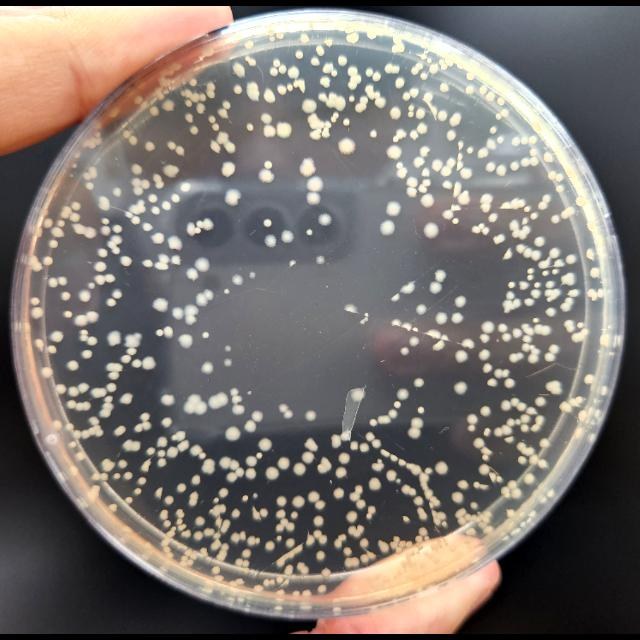colony: (224, 188, 242, 206), (338, 137, 356, 155), (258, 168, 276, 184), (306, 176, 324, 192), (300, 160, 316, 176), (178, 333, 194, 349), (276, 122, 292, 138), (194, 256, 210, 272), (153, 298, 170, 312), (107, 330, 121, 346), (379, 220, 395, 234), (386, 202, 402, 216), (386, 145, 402, 159), (302, 98, 316, 114), (424, 222, 438, 238), (435, 461, 449, 475), (266, 466, 280, 480), (167, 235, 181, 249), (222, 162, 236, 176), (421, 194, 435, 208), (318, 212, 332, 226), (142, 356, 156, 370), (306, 191, 320, 205), (350, 388, 364, 402), (226, 426, 240, 440), (280, 229, 294, 243), (425, 328, 441, 340), (263, 87, 275, 103), (481, 321, 495, 334), (528, 290, 540, 304), (126, 336, 140, 348), (74, 314, 88, 326), (208, 395, 220, 409), (50, 331, 64, 343), (185, 304, 199, 316), (86, 311, 100, 323), (196, 292, 208, 306), (32, 306, 44, 320), (262, 125, 276, 137), (172, 306, 184, 320), (454, 382, 468, 394), (454, 294, 466, 308), (434, 312, 448, 324), (368, 478, 382, 490), (258, 438, 272, 450), (164, 165, 176, 178), (278, 456, 290, 469), (162, 99, 175, 111), (202, 361, 214, 374), (265, 235, 277, 248), (408, 426, 420, 439), (396, 388, 409, 400), (40, 367, 54, 378), (232, 62, 244, 74), (345, 302, 357, 314), (217, 132, 229, 144), (248, 90, 260, 102), (202, 218, 214, 230), (302, 451, 314, 463), (188, 393, 200, 405), (79, 290, 91, 302), (190, 444, 202, 456), (216, 393, 228, 405), (121, 392, 133, 404), (184, 401, 196, 413), (460, 167, 472, 179), (406, 176, 418, 188), (390, 107, 402, 119), (434, 270, 446, 282), (84, 227, 96, 239), (293, 496, 305, 508), (293, 463, 305, 475), (244, 420, 256, 432), (152, 232, 164, 244), (430, 281, 442, 293), (456, 350, 468, 362), (108, 106, 120, 118), (411, 417, 424, 428), (599, 333, 609, 347), (336, 96, 346, 110), (532, 488, 544, 499), (559, 401, 571, 412), (186, 314, 197, 326), (338, 452, 350, 463), (196, 401, 207, 413), (524, 472, 536, 483), (458, 193, 470, 204), (407, 186, 418, 198), (226, 142, 237, 154), (510, 197, 520, 210), (51, 228, 64, 238), (232, 404, 245, 414), (160, 394, 173, 404), (98, 196, 109, 207), (540, 196, 550, 208), (550, 380, 562, 390), (304, 438, 316, 448), (114, 426, 126, 436), (34, 337, 44, 349), (486, 138, 496, 150), (94, 274, 106, 284), (560, 302, 572, 312), (180, 182, 192, 192), (94, 262, 106, 272), (496, 164, 506, 176), (414, 156, 424, 168), (432, 159, 442, 171), (548, 248, 560, 258), (534, 396, 546, 406), (120, 256, 132, 266), (186, 268, 198, 278), (308, 492, 320, 502), (232, 274, 244, 284), (473, 438, 485, 448), (452, 312, 462, 324), (203, 46, 215, 56), (104, 461, 116, 471), (587, 248, 595, 262), (498, 202, 512, 210), (105, 362, 116, 372), (401, 284, 412, 294), (351, 74, 362, 84), (461, 338, 472, 348), (168, 447, 178, 458), (452, 492, 463, 502), (347, 512, 358, 522), (376, 98, 386, 109), (220, 457, 230, 468), (442, 210, 453, 220), (78, 383, 89, 393), (98, 248, 109, 258), (246, 468, 256, 479), (132, 163, 142, 174), (252, 411, 262, 422), (467, 414, 478, 424), (417, 124, 428, 134), (478, 464, 489, 474), (501, 400, 512, 410), (89, 489, 99, 499), (68, 424, 78, 434), (538, 494, 548, 504), (235, 68, 245, 78), (155, 260, 165, 270), (102, 458, 112, 468), (564, 274, 574, 284), (323, 63, 333, 73), (405, 282, 415, 292), (310, 130, 320, 140), (28, 255, 38, 265), (100, 201, 110, 211), (308, 442, 318, 452), (320, 77, 330, 87), (502, 300, 512, 310), (434, 340, 444, 350), (535, 415, 545, 425), (91, 388, 101, 398), (179, 440, 189, 450), (76, 451, 86, 461), (210, 141, 220, 151), (570, 332, 580, 342), (100, 408, 110, 418), (503, 250, 513, 260), (204, 458, 214, 468), (230, 532, 240, 542), (419, 146, 429, 156), (109, 370, 119, 380), (418, 526, 428, 536), (130, 204, 140, 214), (419, 472, 429, 482), (396, 128, 406, 138), (123, 440, 133, 450), (372, 72, 382, 82), (265, 541, 275, 551), (33, 262, 43, 272), (52, 419, 62, 429), (576, 197, 586, 207), (458, 479, 468, 489), (194, 530, 204, 540), (392, 318, 402, 328), (347, 66, 357, 76), (502, 425, 512, 435), (512, 488, 522, 498), (89, 416, 99, 426), (411, 465, 421, 475), (176, 430, 186, 440), (58, 276, 68, 286), (195, 516, 205, 526), (338, 56, 348, 66), (318, 534, 328, 544), (140, 412, 150, 422), (315, 500, 325, 510), (397, 168, 407, 178), (132, 358, 142, 368), (112, 290, 122, 300), (531, 250, 541, 260), (106, 382, 116, 392), (478, 148, 488, 158), (481, 203, 491, 213), (87, 336, 97, 346), (142, 421, 152, 431), (529, 455, 539, 465), (528, 354, 538, 364), (286, 522, 296, 532), (543, 152, 553, 162), (121, 354, 131, 364), (522, 248, 532, 258), (423, 92, 433, 102), (372, 438, 382, 448), (261, 113, 271, 123), (350, 492, 360, 502), (171, 255, 181, 265), (69, 386, 79, 396), (584, 374, 594, 384), (386, 470, 396, 480), (482, 363, 492, 373), (508, 353, 518, 363), (530, 288, 540, 298), (204, 290, 214, 300), (219, 487, 229, 497), (315, 255, 325, 265), (285, 538, 295, 548), (278, 403, 288, 413), (134, 95, 144, 105), (101, 226, 111, 236), (590, 268, 600, 278), (446, 130, 456, 140), (175, 146, 185, 156), (510, 161, 520, 171), (545, 352, 555, 362), (288, 68, 298, 78), (49, 278, 59, 288), (230, 460, 240, 470), (441, 166, 451, 176), (539, 438, 549, 448), (437, 111, 447, 121), (56, 384, 66, 394), (246, 456, 256, 466), (336, 467, 346, 477), (276, 496, 286, 506), (482, 193, 492, 203), (541, 325, 551, 335), (546, 307, 556, 317), (365, 431, 375, 441), (313, 516, 323, 526), (162, 417, 172, 427), (480, 333, 490, 343), (501, 332, 511, 342), (512, 328, 522, 338), (486, 162, 496, 172), (400, 346, 410, 356), (68, 360, 78, 370), (157, 436, 167, 446), (360, 442, 370, 452), (566, 254, 576, 264), (227, 472, 237, 482), (505, 378, 515, 388), (480, 350, 490, 360), (306, 411, 316, 421), (549, 344, 559, 354), (334, 488, 344, 498), (145, 141, 155, 151), (480, 406, 490, 416), (409, 336, 419, 346), (534, 237, 544, 247), (414, 378, 424, 388), (416, 304, 426, 314), (511, 526, 521, 536), (396, 43, 406, 53), (280, 578, 290, 588), (478, 70, 488, 80), (187, 226, 196, 237), (588, 433, 596, 445), (351, 32, 359, 44), (550, 386, 562, 394), (504, 435, 516, 443), (74, 226, 86, 234), (534, 121, 542, 133), (201, 463, 211, 472), (92, 120, 101, 130), (22, 322, 31, 332), (379, 542, 388, 552), (322, 462, 332, 471), (332, 439, 342, 448), (89, 166, 98, 176), (331, 433, 341, 442), (452, 112, 462, 121), (423, 488, 432, 498), (307, 115, 317, 124), (112, 363, 122, 372), (158, 77, 168, 86), (318, 584, 327, 594), (449, 117, 458, 127), (244, 40, 253, 50), (413, 496, 422, 506), (164, 326, 173, 336), (318, 463, 328, 472), (276, 509, 286, 518), (218, 109, 228, 118), (409, 87, 418, 97), (429, 64, 438, 74), (509, 220, 518, 230), (356, 499, 366, 508), (348, 80, 357, 90), (164, 495, 173, 505), (342, 431, 351, 441), (520, 413, 530, 422), (318, 92, 328, 101), (82, 349, 92, 358), (134, 187, 144, 196), (359, 538, 368, 548), (418, 184, 428, 193), (538, 459, 548, 468), (516, 402, 526, 411), (402, 485, 411, 495), (112, 187, 121, 197), (510, 398, 520, 407), (388, 409, 398, 418), (498, 323, 508, 332), (575, 427, 583, 438), (308, 530, 314, 544), (82, 402, 91, 411), (119, 459, 128, 468), (439, 82, 448, 91), (472, 224, 481, 233), (493, 428, 502, 437), (178, 442, 186, 452), (213, 144, 221, 154), (587, 406, 595, 416), (35, 228, 43, 238), (92, 484, 100, 494), (297, 78, 305, 88), (488, 473, 496, 483), (484, 526, 494, 534), (456, 162, 464, 172), (213, 505, 221, 515), (40, 208, 48, 218), (364, 84, 374, 92), (446, 58, 454, 68), (210, 542, 220, 550), (310, 121, 320, 129), (600, 386, 608, 396), (593, 409, 601, 419), (300, 34, 310, 42), (546, 382, 554, 392), (231, 395, 241, 403), (70, 465, 78, 475), (563, 320, 573, 328), (538, 260, 548, 268), (568, 398, 578, 406), (62, 206, 72, 214), (383, 414, 391, 424), (519, 230, 527, 240), (247, 536, 255, 546), (530, 424, 540, 432), (310, 58, 320, 66), (103, 402, 113, 410), (354, 104, 364, 112), (355, 484, 363, 494), (112, 236, 122, 244), (578, 410, 586, 420), (334, 538, 342, 548), (518, 198, 526, 208), (30, 297, 40, 305), (586, 289, 596, 297), (512, 136, 520, 146), (300, 566, 310, 574), (248, 82, 258, 90), (105, 274, 115, 282), (242, 549, 252, 557), (496, 234, 506, 242), (516, 244, 524, 254), (524, 298, 534, 306), (526, 407, 536, 415), (143, 259, 153, 267), (316, 552, 326, 560), (396, 78, 404, 88), (131, 216, 141, 224), (535, 324, 543, 334), (416, 108, 424, 118), (350, 440, 358, 450), (520, 280, 528, 290), (502, 368, 510, 378), (466, 72, 476, 80), (44, 218, 52, 228), (278, 85, 286, 95), (68, 400, 76, 410), (48, 344, 56, 354), (192, 475, 200, 485), (390, 293, 400, 301), (152, 174, 162, 182), (520, 424, 530, 432), (106, 298, 116, 306), (232, 508, 240, 518), (222, 101, 232, 109), (538, 202, 548, 210), (44, 256, 52, 266), (190, 94, 200, 102), (446, 158, 456, 166), (422, 178, 432, 186), (158, 458, 166, 468), (48, 240, 58, 248), (442, 181, 452, 189), (142, 223, 152, 231), (488, 214, 498, 222), (410, 130, 418, 140), (522, 342, 530, 352), (61, 292, 71, 300), (495, 368, 503, 378), (159, 254, 169, 262), (178, 482, 186, 492), (520, 158, 530, 166), (283, 410, 293, 418), (170, 194, 180, 202), (70, 214, 80, 222), (142, 179, 150, 189), (506, 290, 514, 300), (128, 136, 138, 144), (72, 202, 82, 210), (148, 194, 158, 202), (150, 106, 158, 116), (470, 556, 480, 564), (353, 584, 361, 594), (392, 36, 402, 44), (366, 32, 376, 40), (587, 221, 595, 231), (452, 56, 462, 64), (156, 487, 162, 499), (438, 512, 447, 520), (204, 466, 213, 474), (458, 508, 467, 516), (392, 66, 401, 74), (92, 472, 100, 481), (236, 468, 244, 477), (547, 489, 555, 498), (82, 172, 91, 180), (190, 492, 198, 501), (197, 104, 206, 112), (468, 424, 477, 432), (502, 486, 511, 494), (508, 479, 516, 488), (479, 86, 488, 94), (82, 429, 90, 438), (76, 402, 84, 411), (359, 554, 368, 562), (207, 82, 216, 90), (322, 568, 331, 576), (73, 429, 81, 438), (132, 442, 140, 451), (488, 379, 497, 387), (343, 547, 352, 555), (517, 442, 525, 451), (530, 157, 538, 166), (112, 225, 121, 233), (506, 418, 514, 427), (552, 214, 560, 223), (234, 85, 242, 94), (224, 358, 232, 367), (550, 292, 558, 300), (482, 516, 490, 524), (420, 482, 428, 490), (430, 108, 438, 116), (455, 510, 463, 518), (276, 588, 284, 596), (80, 330, 88, 338), (404, 323, 412, 331), (254, 585, 262, 593), (576, 332, 584, 340), (144, 458, 152, 466), (454, 182, 462, 190), (484, 510, 492, 518), (276, 558, 284, 566), (215, 518, 223, 526), (419, 512, 427, 520), (552, 290, 560, 298), (372, 463, 380, 471), (516, 352, 524, 360), (575, 396, 583, 404), (367, 92, 375, 100), (190, 552, 198, 560), (185, 548, 193, 556), (385, 65, 393, 73), (526, 327, 534, 335), (329, 94, 337, 102), (390, 454, 398, 462), (80, 334, 88, 342), (377, 416, 385, 424), (94, 138, 102, 146), (212, 566, 220, 574), (466, 86, 474, 94), (276, 524, 284, 532), (100, 472, 108, 480), (351, 558, 359, 566), (326, 99, 334, 107), (398, 458, 406, 466), (348, 526, 356, 534), (207, 90, 215, 98), (416, 62, 424, 70), (260, 508, 268, 516), (344, 558, 352, 566), (566, 207, 574, 215), (554, 259, 562, 267), (141, 464, 149, 472), (548, 172, 556, 180), (122, 130, 130, 138), (184, 90, 192, 98), (529, 136, 537, 144), (314, 530, 322, 538), (64, 310, 72, 318), (512, 230, 520, 238), (523, 225, 531, 233), (108, 240, 116, 248), (280, 518, 288, 526), (542, 194, 550, 202), (86, 182, 94, 190), (556, 174, 564, 182), (368, 506, 376, 514), (482, 227, 490, 235), (402, 92, 410, 100), (134, 424, 142, 432), (486, 92, 494, 100), (422, 168, 430, 176), (168, 142, 176, 150), (190, 126, 198, 134), (518, 456, 526, 464), (369, 418, 377, 426), (230, 388, 238, 396), (132, 178, 140, 186), (152, 206, 160, 214), (270, 68, 278, 76), (162, 202, 170, 210), (263, 219, 271, 227), (415, 542, 423, 550), (466, 542, 474, 550), (455, 550, 463, 558), (144, 542, 152, 550), (160, 68, 168, 76), (486, 79, 494, 87), (280, 552, 288, 560), (200, 92, 207, 101), (306, 538, 312, 548), (332, 606, 342, 612), (480, 484, 490, 490), (598, 288, 604, 298), (302, 590, 312, 596), (127, 348, 137, 354), (480, 447, 490, 453), (414, 536, 424, 542), (366, 68, 372, 78), (514, 298, 520, 308), (280, 64, 286, 74), (522, 336, 532, 342), (276, 596, 286, 602), (344, 28, 354, 34), (122, 526, 132, 532), (376, 464, 384, 471), (188, 223, 195, 231), (220, 550, 227, 558), (492, 238, 500, 245), (203, 528, 210, 536), (521, 324, 529, 331), (507, 509, 515, 516), (253, 512, 260, 520), (138, 205, 146, 212), (409, 488, 416, 496), (96, 429, 104, 436), (235, 558, 242, 566), (556, 185, 564, 192), (489, 126, 496, 134), (156, 329, 164, 336), (66, 424, 74, 431), (369, 130, 376, 138), (112, 248, 120, 255), (158, 449, 166, 456), (449, 544, 456, 552), (434, 556, 441, 564), (338, 534, 347, 540), (110, 503, 116, 512), (59, 220, 66, 227), (439, 51, 446, 58), (454, 186, 460, 194), (169, 528, 175, 536), (296, 544, 302, 552), (90, 172, 98, 178), (213, 540, 221, 546), (405, 552, 411, 560), (406, 463, 414, 469), (450, 204, 456, 212), (134, 333, 142, 339), (486, 448, 492, 456), (173, 166, 179, 174), (613, 334, 617, 346), (180, 560, 188, 566), (316, 47, 324, 53), (300, 84, 306, 92), (236, 578, 244, 584), (161, 540, 169, 546), (216, 576, 224, 582), (267, 30, 275, 36), (478, 522, 486, 528), (367, 552, 375, 558), (160, 264, 168, 270), (361, 96, 367, 104), (458, 142, 464, 150), (284, 568, 292, 574), (276, 576, 284, 582), (276, 33, 284, 39), (160, 513, 168, 519), (100, 388, 106, 396), (82, 140, 88, 148), (484, 428, 490, 436), (240, 532, 246, 540), (464, 514, 472, 520), (167, 531, 175, 537), (220, 527, 228, 533), (458, 518, 466, 524), (496, 137, 504, 143), (568, 290, 576, 296), (197, 220, 203, 228), (455, 204, 461, 212), (200, 547, 208, 553), (526, 448, 534, 454), (216, 554, 224, 560), (358, 525, 364, 533), (522, 218, 528, 226), (420, 74, 428, 80), (186, 560, 194, 566), (322, 130, 328, 138), (416, 507, 424, 513), (61, 212, 69, 218), (88, 428, 96, 434), (126, 210, 132, 218), (532, 348, 540, 354), (390, 542, 398, 548), (562, 211, 568, 219), (470, 502, 478, 508), (220, 504, 226, 512), (242, 560, 250, 566), (544, 290, 552, 296), (520, 138, 528, 144), (412, 67, 418, 75), (565, 298, 573, 304), (298, 562, 304, 570), (189, 499, 197, 505), (530, 150, 538, 156), (124, 472, 132, 478), (566, 326, 574, 332), (102, 218, 110, 224), (424, 468, 432, 474), (290, 512, 298, 518), (221, 544, 229, 550), (126, 496, 132, 504), (500, 110, 508, 116), (530, 213, 538, 219), (546, 282, 554, 288), (105, 396, 113, 402), (138, 478, 146, 484), (248, 60, 256, 66), (246, 124, 254, 130), (296, 51, 302, 59), (418, 406, 424, 414), (147, 448, 155, 454), (264, 162, 272, 168), (156, 182, 164, 188), (202, 332, 210, 338), (465, 536, 473, 542), (443, 538, 449, 546), (437, 540, 443, 548), (434, 543, 440, 551), (300, 606, 312, 610), (402, 560, 408, 568), (456, 63, 464, 69), (617, 335, 621, 347), (346, 35, 352, 43), (237, 596, 245, 602), (228, 596, 236, 602), (160, 566, 168, 572), (141, 554, 149, 560), (469, 528, 476, 534), (230, 581, 237, 587), (504, 308, 511, 314), (434, 518, 441, 524), (354, 531, 361, 537), (434, 499, 440, 506), (163, 520, 170, 526), (223, 520, 230, 526), (163, 547, 170, 553), (213, 533, 220, 539), (158, 94, 165, 100), (429, 496, 436, 502), (185, 114, 192, 120), (88, 282, 95, 288), (344, 118, 350, 125), (185, 100, 192, 106), (190, 80, 197, 86), (394, 402, 401, 408), (374, 574, 381, 580), (334, 598, 341, 604), (419, 562, 426, 568), (458, 152, 462, 162), (324, 82, 330, 88), (364, 316, 370, 322), (432, 511, 438, 517), (209, 529, 215, 535), (392, 46, 398, 52), (479, 514, 485, 520), (317, 128, 323, 134), (202, 552, 208, 558), (167, 84, 173, 90), (360, 104, 366, 110), (530, 511, 536, 517), (453, 191, 459, 197), (162, 510, 168, 516), (169, 70, 175, 76), (288, 552, 294, 558), (589, 419, 595, 425), (292, 82, 298, 88), (178, 512, 184, 518), (308, 24, 314, 30), (178, 525, 184, 531), (413, 547, 419, 553), (294, 591, 300, 597), (286, 565, 292, 571), (270, 36, 276, 42), (562, 276, 568, 282), (322, 458, 328, 464), (471, 515, 477, 521), (504, 492, 510, 498), (185, 531, 191, 537), (167, 553, 173, 559), (74, 152, 80, 158), (468, 342, 474, 348), (326, 40, 332, 46), (177, 509, 183, 515), (530, 344, 536, 350), (318, 50, 324, 56), (546, 296, 552, 302), (181, 555, 187, 561), (95, 425, 101, 431), (582, 328, 588, 334), (72, 162, 78, 168), (70, 441, 76, 447), (403, 516, 409, 522), (244, 56, 250, 62), (393, 535, 399, 541), (263, 579, 269, 585), (360, 319, 366, 325), (366, 513, 372, 519), (396, 478, 402, 484), (90, 142, 96, 148), (442, 64, 448, 70), (325, 122, 331, 128), (421, 54, 427, 60), (163, 88, 169, 94), (482, 454, 488, 460), (225, 346, 231, 352), (542, 270, 548, 276), (95, 132, 101, 138), (392, 136, 398, 142), (318, 122, 324, 128), (408, 105, 414, 111), (172, 434, 178, 440), (406, 541, 412, 547), (135, 488, 141, 494), (334, 112, 340, 118), (527, 268, 533, 274), (374, 92, 380, 98), (177, 518, 183, 524), (200, 452, 206, 458), (474, 482, 480, 488), (396, 547, 402, 553), (399, 541, 405, 547), (467, 147, 473, 153), (552, 268, 558, 274), (195, 227, 201, 233), (497, 476, 503, 482), (209, 116, 215, 122), (114, 473, 120, 479), (290, 260, 296, 266), (332, 70, 338, 76), (138, 200, 144, 206), (442, 335, 448, 341), (524, 206, 530, 212), (408, 111, 414, 117), (527, 274, 533, 280), (498, 98, 504, 104), (250, 272, 256, 278), (496, 113, 502, 119), (224, 288, 230, 294), (515, 419, 521, 425), (534, 282, 540, 288), (306, 229, 312, 235), (396, 162, 402, 168), (274, 60, 280, 66), (256, 452, 262, 458), (212, 124, 218, 130), (509, 282, 515, 288), (453, 218, 459, 224), (526, 517, 532, 523), (520, 521, 526, 527), (502, 534, 508, 540), (476, 517, 482, 523), (429, 544, 435, 550), (410, 550, 416, 556), (423, 550, 429, 556), (428, 553, 434, 559), (416, 586, 422, 592), (400, 558, 406, 564), (406, 560, 412, 566), (368, 588, 374, 594), (176, 64, 182, 70), (220, 590, 226, 596), (275, 606, 283, 610), (288, 85, 292, 92), (442, 520, 446, 526), (430, 502, 434, 508), (180, 532, 186, 536), (323, 128, 329, 132), (592, 294, 596, 300), (378, 539, 382, 545), (384, 452, 390, 456), (382, 449, 386, 455), (376, 459, 382, 463), (270, 578, 274, 584), (210, 508, 214, 514), (424, 536, 430, 540), (256, 538, 260, 544), (180, 92, 186, 96), (464, 190, 468, 196), (276, 536, 282, 540), (440, 59, 444, 65), (478, 224, 484, 228), (214, 498, 220, 502), (534, 318, 538, 324), (414, 326, 418, 332), (578, 322, 582, 328), (253, 492, 257, 498), (330, 118, 336, 122), (350, 96, 354, 102), (242, 496, 248, 500), (500, 532, 506, 536), (466, 530, 472, 534), (398, 569, 402, 575), (393, 574, 399, 578), (182, 524, 186, 528), (427, 59, 431, 63), (172, 527, 176, 531), (247, 391, 251, 395), (404, 568, 408, 572), (415, 566, 419, 570), (70, 173, 74, 177), (252, 506, 254, 510), (477, 512, 481, 514), (366, 313, 368, 317), (414, 562, 416, 566), (497, 340, 499, 342)
